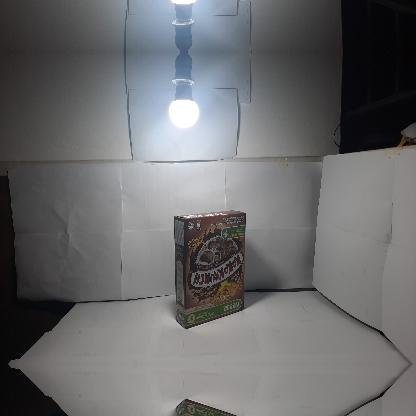Koko-Krunch: (174, 210, 245, 328)
